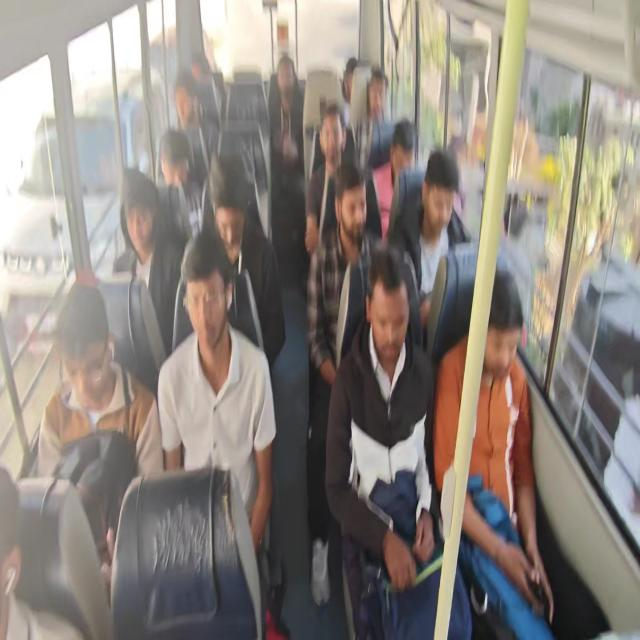person: (61, 280, 113, 411), (181, 253, 232, 351), (0, 470, 35, 612), (469, 293, 520, 387), (370, 271, 407, 369), (206, 166, 250, 248), (116, 173, 160, 254), (423, 166, 458, 234), (338, 182, 371, 244), (159, 138, 192, 192), (272, 47, 300, 100), (388, 128, 414, 180), (171, 82, 198, 130), (322, 111, 345, 162), (187, 53, 215, 85), (340, 55, 361, 94), (368, 78, 390, 113)
